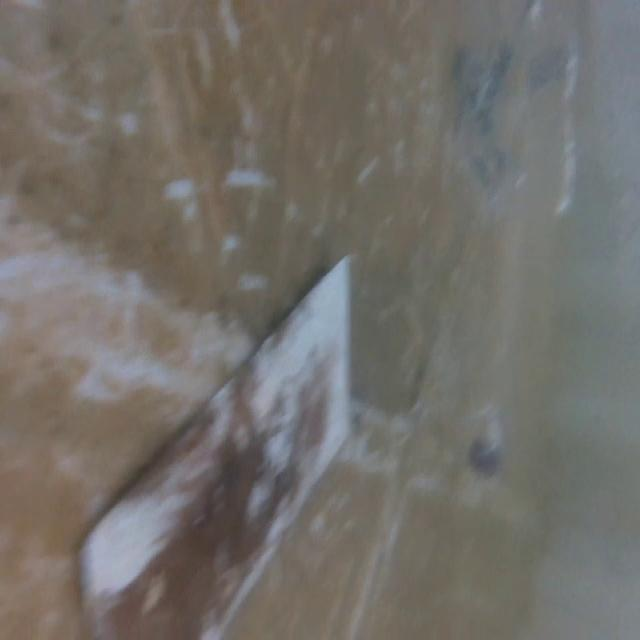metal: (13, 249, 367, 640)
plastic bags: (445, 0, 598, 244)
plastic bottle: (424, 281, 520, 543)
